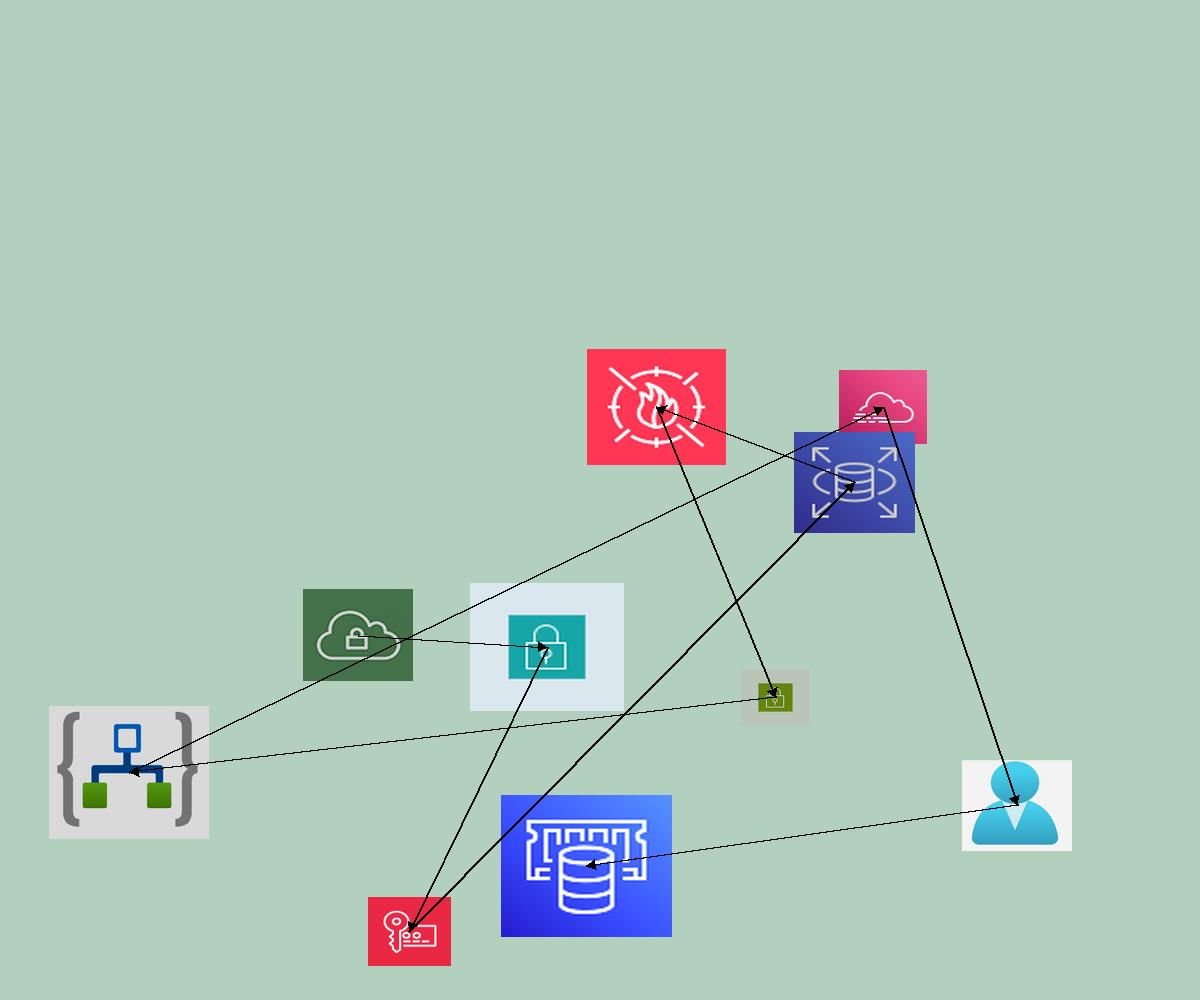AWS-CloudTrail: (839, 370, 927, 444)
AWS-ElastiCache: (501, 795, 672, 937)
AWS-Key-Management-Service: (368, 897, 451, 966)
AWS-Private-subnet: (470, 583, 624, 711)
AWS-Private_vpc: (303, 589, 413, 681)
AWS-Public-subnet: (741, 669, 810, 726)
AWS-RDS: (794, 432, 915, 533)
AWS-WAF: (587, 349, 726, 465)
Azure_integration-204-Logic-Apps: (49, 706, 209, 839)
Azure_users: (962, 760, 1072, 851)
